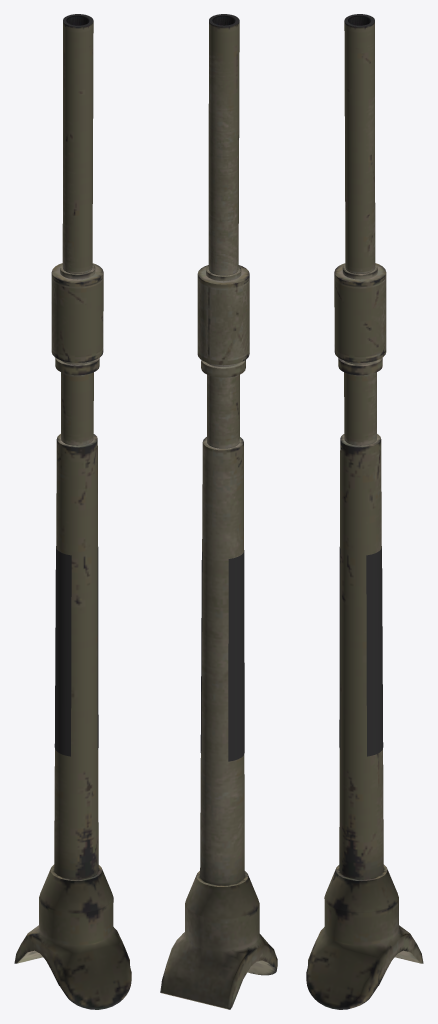
Rendered from Gun_01.glb.
The picture shows the model from 3 angles, left to right: view 1: azimuth 30°, elevation 25°; view 2: azimuth 150°, elevation 25°; view 3: azimuth 330°, elevation 25°; orthographic projection.
Visible parts, largest first — view 1: set_0_group_0, set_0_group_1; view 2: set_0_group_0, set_0_group_1; view 3: set_0_group_0, set_0_group_1.
Boxes of the visible parts, x1,y1,x2,y2 form: set_0_group_0: (14,14,131,1009); set_0_group_1: (54,546,98,756); set_0_group_0: (160,14,277,1009); set_0_group_1: (200,550,244,761); set_0_group_0: (306,14,423,1009); set_0_group_1: (339,547,383,756).
Bounding box in the file's own units: 0.4433 × 5.88 × 0.632.
Materials: 2 (2 with a texture image).
